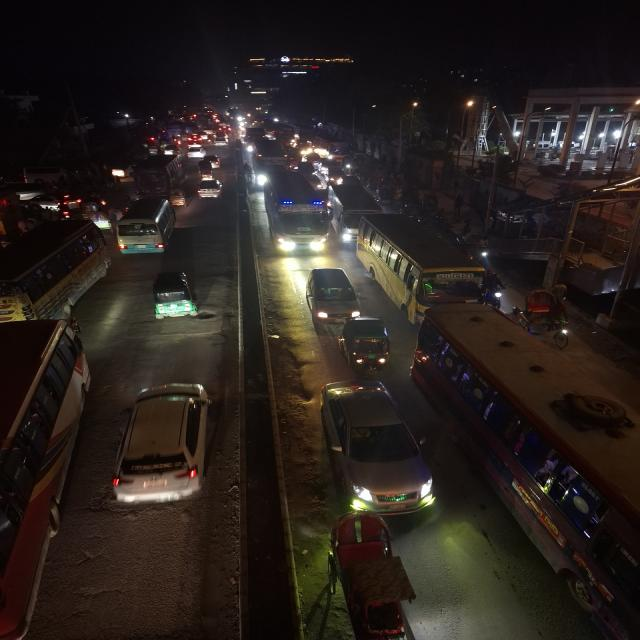bus: (0, 316, 90, 640), (357, 212, 496, 316), (0, 218, 101, 323), (260, 170, 332, 258), (113, 196, 179, 258), (328, 180, 382, 245), (132, 155, 184, 195), (250, 138, 285, 186)
car: (314, 379, 436, 521), (111, 379, 221, 508), (301, 264, 363, 324), (195, 178, 224, 200), (186, 146, 206, 158), (162, 145, 180, 157)
cng: (337, 315, 393, 376), (148, 268, 200, 324)
motorcycle: (208, 154, 222, 170)
rickshaw: (320, 513, 422, 640), (514, 288, 576, 344), (90, 207, 114, 232), (170, 184, 188, 209)
